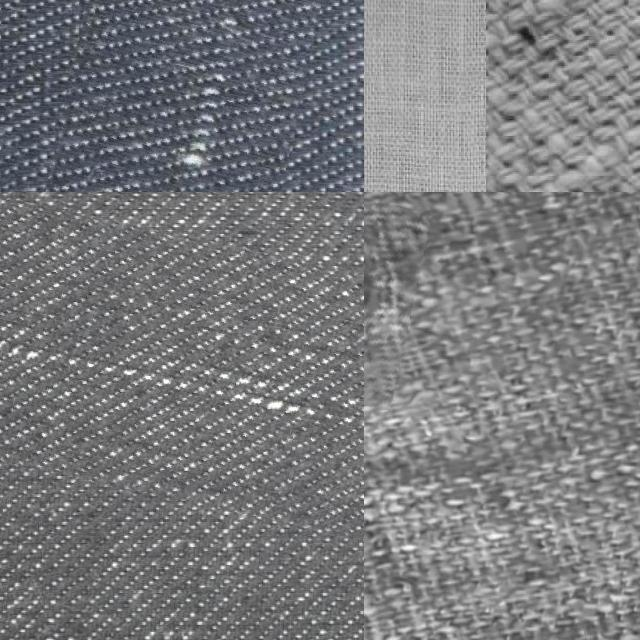Thread_other: (0, 207, 364, 525), (54, 0, 310, 192)
seam: (364, 192, 421, 401)
